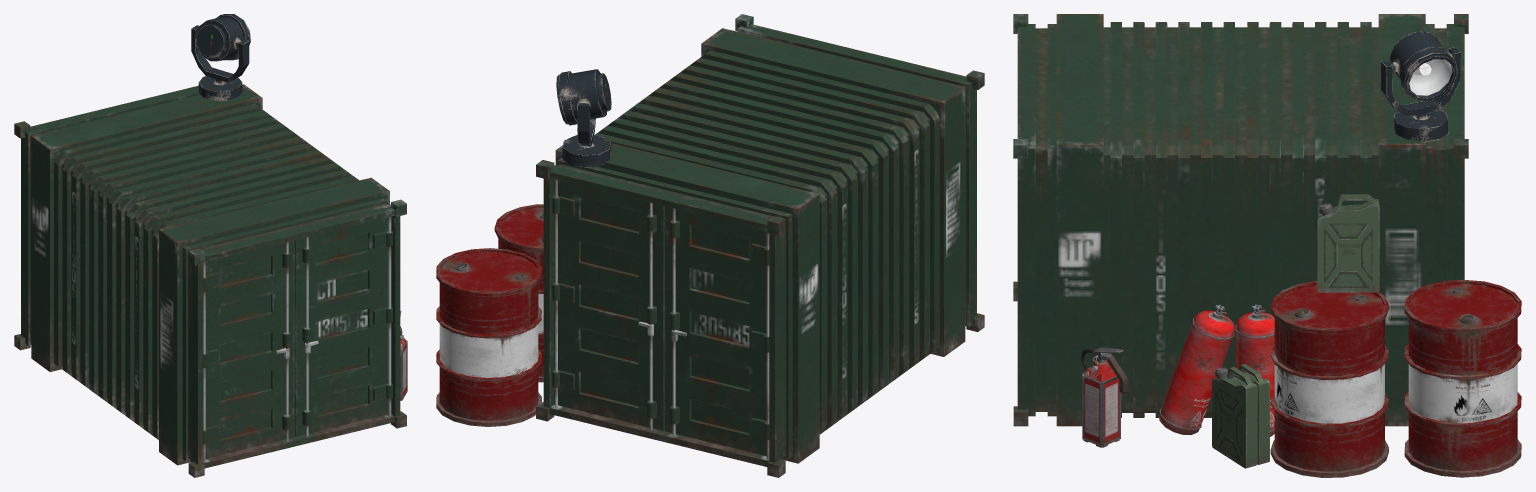
The model's file is industrial_assets.glb.
3 renders of one model, left to right at view 1: azimuth 30°, elevation 25°; view 2: azimuth 150°, elevation 25°; view 3: azimuth 270°, elevation 25°, orthographic. The views are drawn at different scales.
Visible parts, largest first — view 1: container:extras1, spotl_l, spotl_b, feuerl; view 2: container:extras1, lp4, barrel:lp4, spotl_l, spotl_b; view 3: container:extras1, lp4, barrel:lp4, jerrycan2, canister_original1, jerrycan1, feuerl, spotl_l, spotl_b, canister_original.
Boxes of the visible parts, <box> form: container:extras1: <box>14,84,406,477</box>; spotl_l: <box>195,14,250,61</box>; spotl_b: <box>191,25,249,100</box>; feuerl: <box>400,310,407,400</box>; container:extras1: <box>536,14,984,477</box>; lp4: <box>436,248,541,426</box>; barrel:lp4: <box>494,204,543,382</box>; spotl_l: <box>556,69,611,125</box>; spotl_b: <box>562,101,611,167</box>; container:extras1: <box>1013,14,1468,426</box>; lp4: <box>1404,279,1521,477</box>; barrel:lp4: <box>1270,281,1388,477</box>; jerrycan2: <box>1317,194,1379,292</box>; canister_original1: <box>1159,305,1234,434</box>; jerrycan1: <box>1212,363,1269,468</box>; feuerl: <box>1081,347,1127,447</box>; spotl_l: <box>1389,31,1457,100</box>; spotl_b: <box>1381,47,1460,141</box>; canister_original: <box>1235,304,1274,436</box>.
Size of the model in its own units: 335 by 321 by 393.
9 materials, 8 textured.
